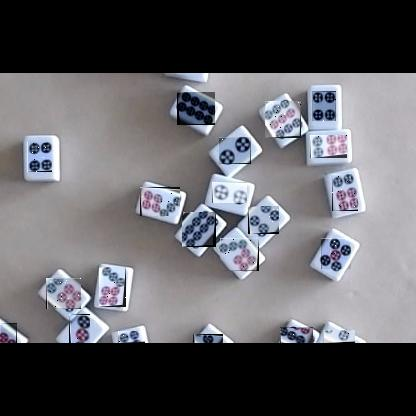2p: (219, 137, 251, 164), (212, 182, 247, 203)
3p: (69, 314, 90, 343)
4p: (248, 206, 279, 234), (27, 142, 52, 172), (312, 91, 336, 121), (323, 330, 355, 343)
5p: (321, 238, 351, 269), (193, 334, 223, 343)
6p: (46, 278, 81, 309), (332, 174, 358, 211), (310, 135, 347, 158), (0, 323, 17, 343)
7p: (220, 238, 259, 271), (140, 187, 180, 216), (99, 267, 126, 307)
8p: (177, 92, 215, 125), (182, 212, 216, 247), (118, 331, 145, 343)
9p: (265, 101, 301, 138), (280, 327, 313, 343)
